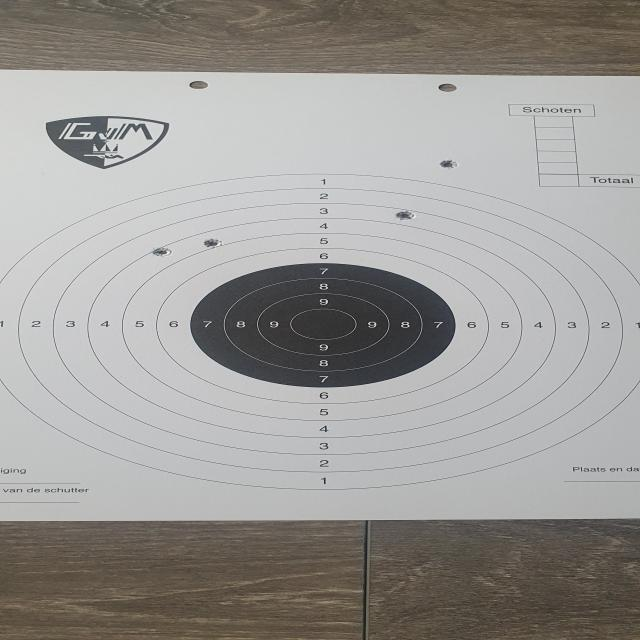4: (392, 210, 418, 222)
5: (151, 246, 173, 258)
6: (202, 239, 224, 249)
Black Contour: (190, 262, 456, 388)
Target: (0, 172, 640, 492)
hole: (438, 160, 459, 170)
